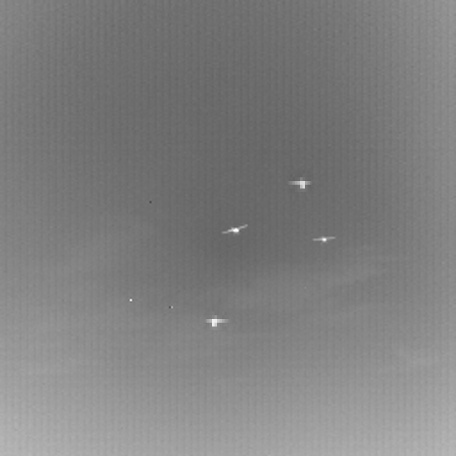plane: (285, 166, 315, 196), (202, 304, 232, 334), (214, 218, 248, 235), (307, 231, 332, 245)
